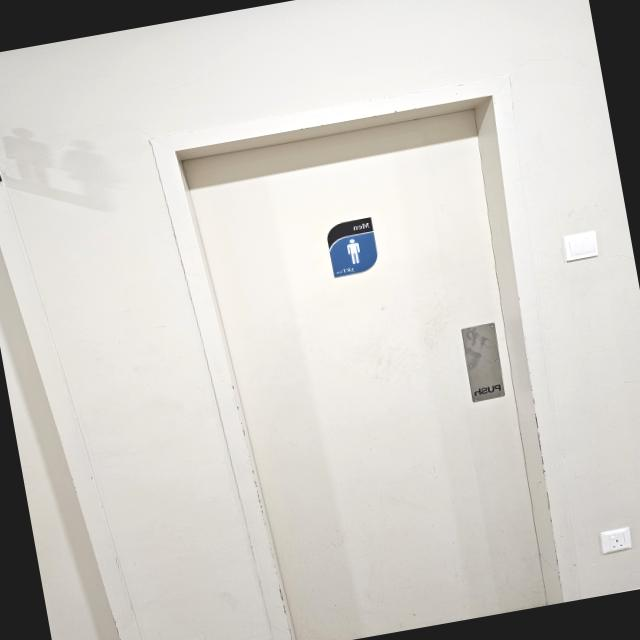door: (173, 97, 566, 640)
